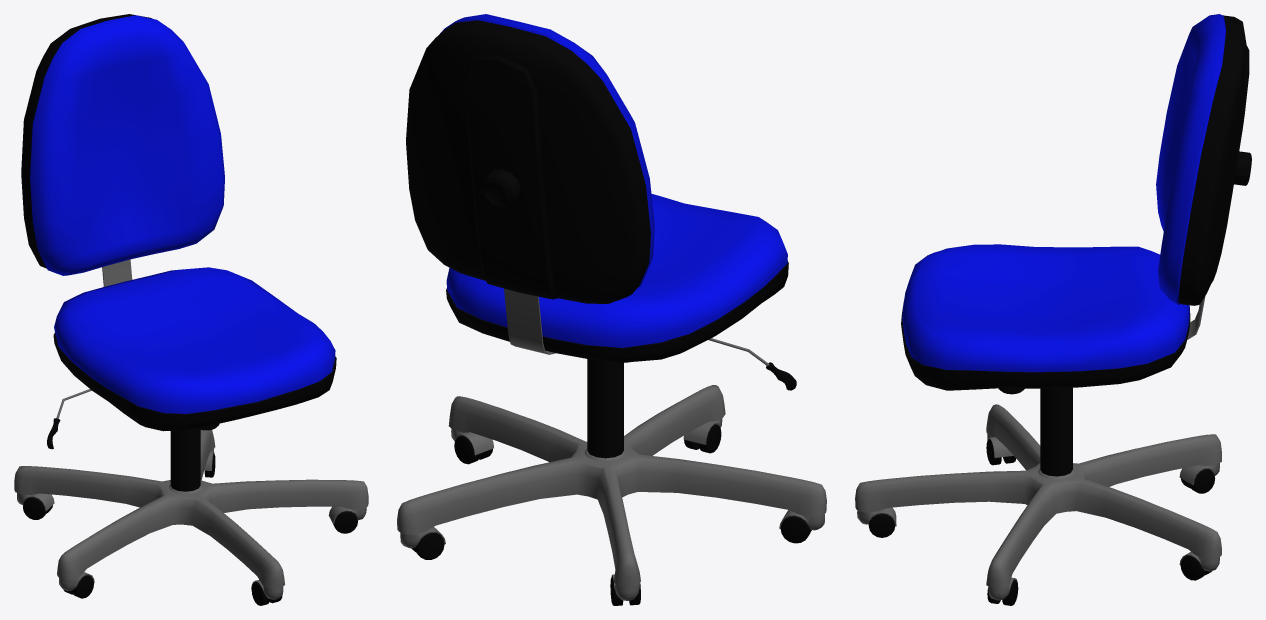
The model's file is office_chair.fbx.
The picture shows the model from 3 angles, left to right: view 1: azimuth 30°, elevation 25°; view 2: azimuth 150°, elevation 25°; view 3: azimuth 270°, elevation 25°; orthographic projection. The views are drawn at different scales.
Visible parts, largest first — view 1: office_chair; view 2: office_chair; view 3: office_chair.
Part boxes in pixels (bbox=[...]): office_chair: bbox=[14, 14, 368, 605]; office_chair: bbox=[397, 14, 826, 605]; office_chair: bbox=[855, 14, 1251, 605].
Size of the model in its own units: 0.6961 by 1.01 by 0.7176.
